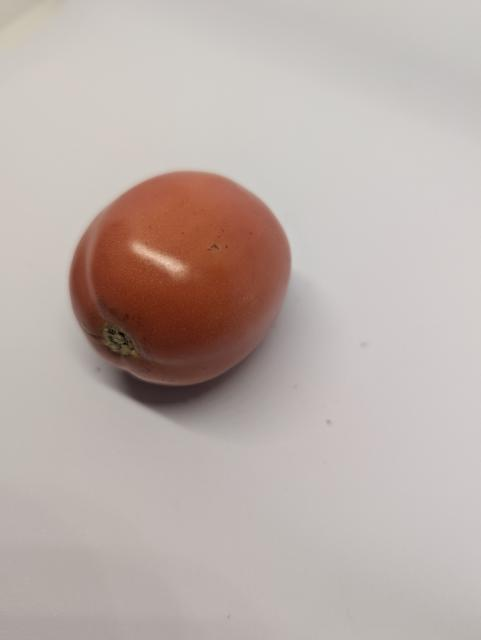red: (65, 147, 309, 400)
